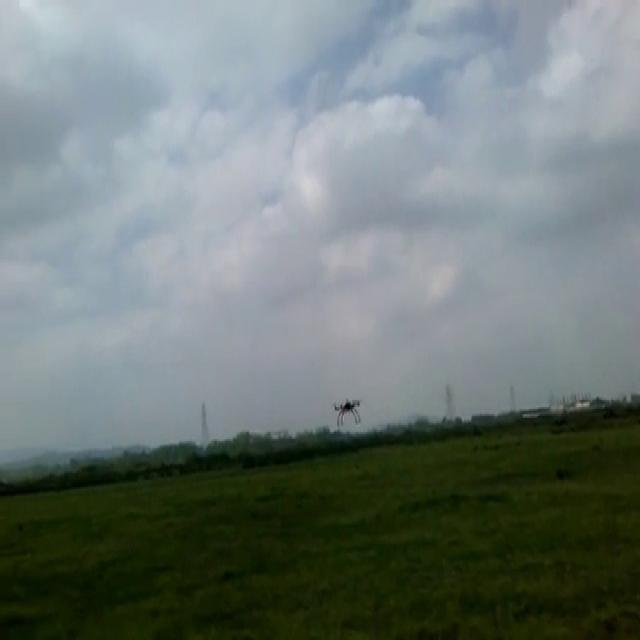drone: (331, 391, 363, 427)
